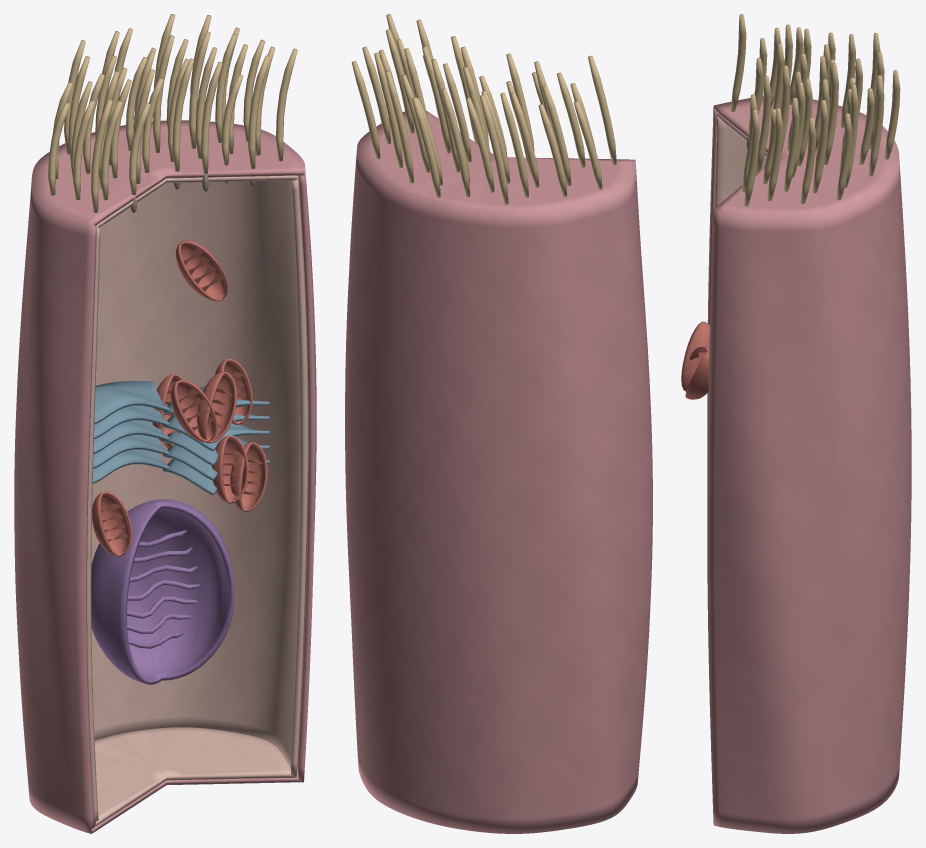
The model's file is ciliada-cutaway.glb.
The picture shows the model from 3 angles, left to right: view 1: azimuth 30°, elevation 25°; view 2: azimuth 150°, elevation 25°; view 3: azimuth 270°, elevation 25°; orthographic projection.
Visible parts, largest first — view 1: cytoplasm_mesh, membrane_mesh, cilia_mesh, nucleus_mesh, mitochondria_mesh, rough_er_mesh; view 2: membrane_mesh, cilia_mesh; view 3: membrane_mesh, cilia_mesh, cytoplasm_mesh, mitochondria_mesh.
Boxes of the visible parts, x1,y1,x2,y2 form: cytoplasm_mesh: [87, 175, 308, 826]; membrane_mesh: [14, 120, 316, 833]; cilia_mesh: [48, 14, 297, 212]; nucleus_mesh: [91, 499, 234, 684]; mitochondria_mesh: [92, 240, 267, 556]; rough_er_mesh: [92, 381, 269, 494]; membrane_mesh: [345, 111, 652, 833]; cilia_mesh: [351, 14, 616, 204]; membrane_mesh: [707, 96, 911, 833]; cilia_mesh: [730, 14, 900, 206]; cytoplasm_mesh: [714, 113, 767, 208]; mitochondria_mesh: [681, 321, 709, 399].
Bounding box in the file's own units: 1.12 × 2.86 × 0.8195.
8 materials, 8 textured.
